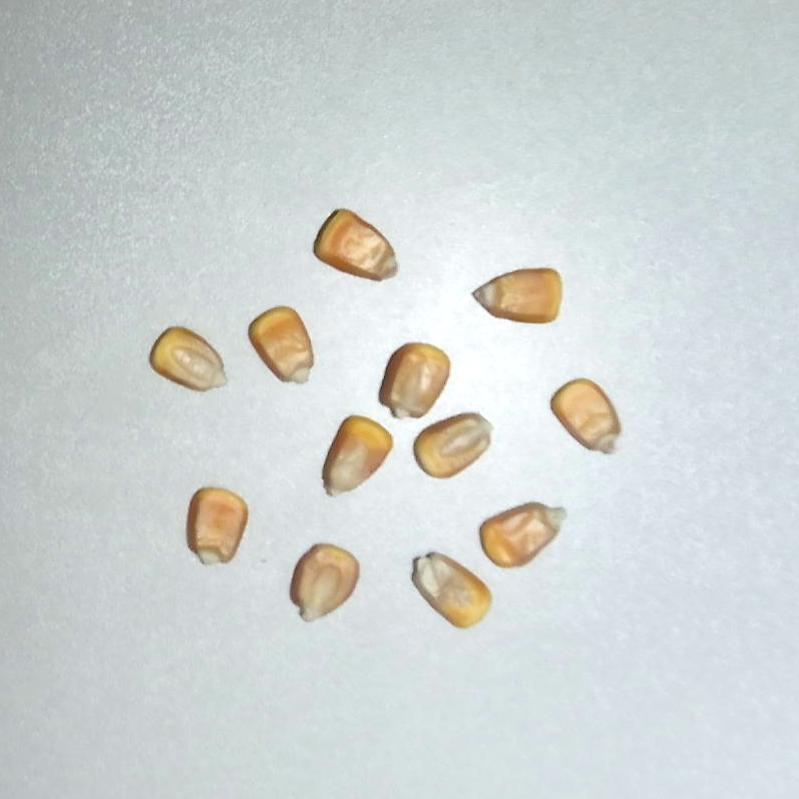corn: (470, 479, 578, 580), (399, 537, 501, 638), (307, 202, 412, 300), (272, 532, 371, 631), (306, 407, 399, 510), (544, 369, 638, 468), (406, 398, 504, 487), (242, 298, 330, 395), (372, 333, 458, 430), (143, 319, 240, 404), (183, 486, 251, 569), (471, 268, 562, 326)
